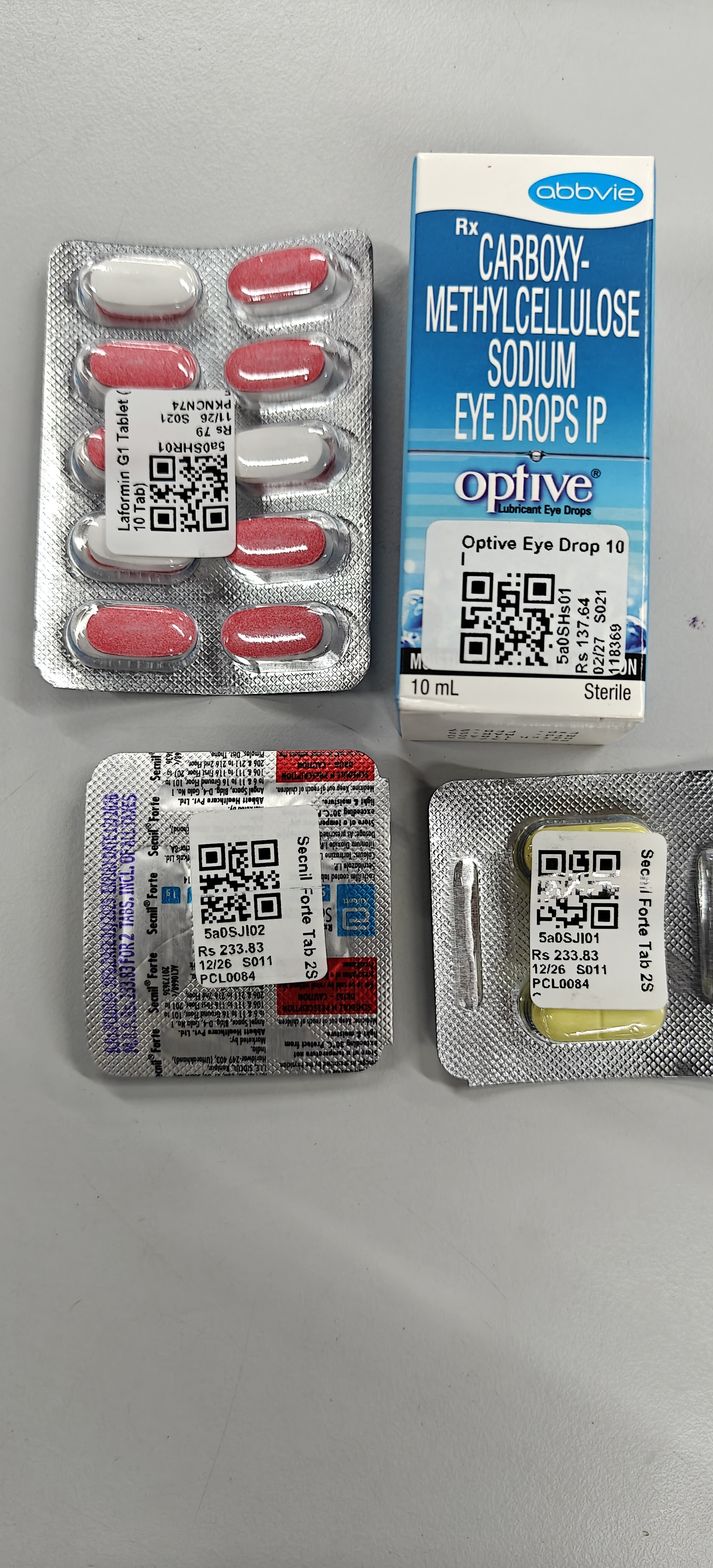qr_code: (198, 839, 282, 925), (149, 454, 229, 531)
